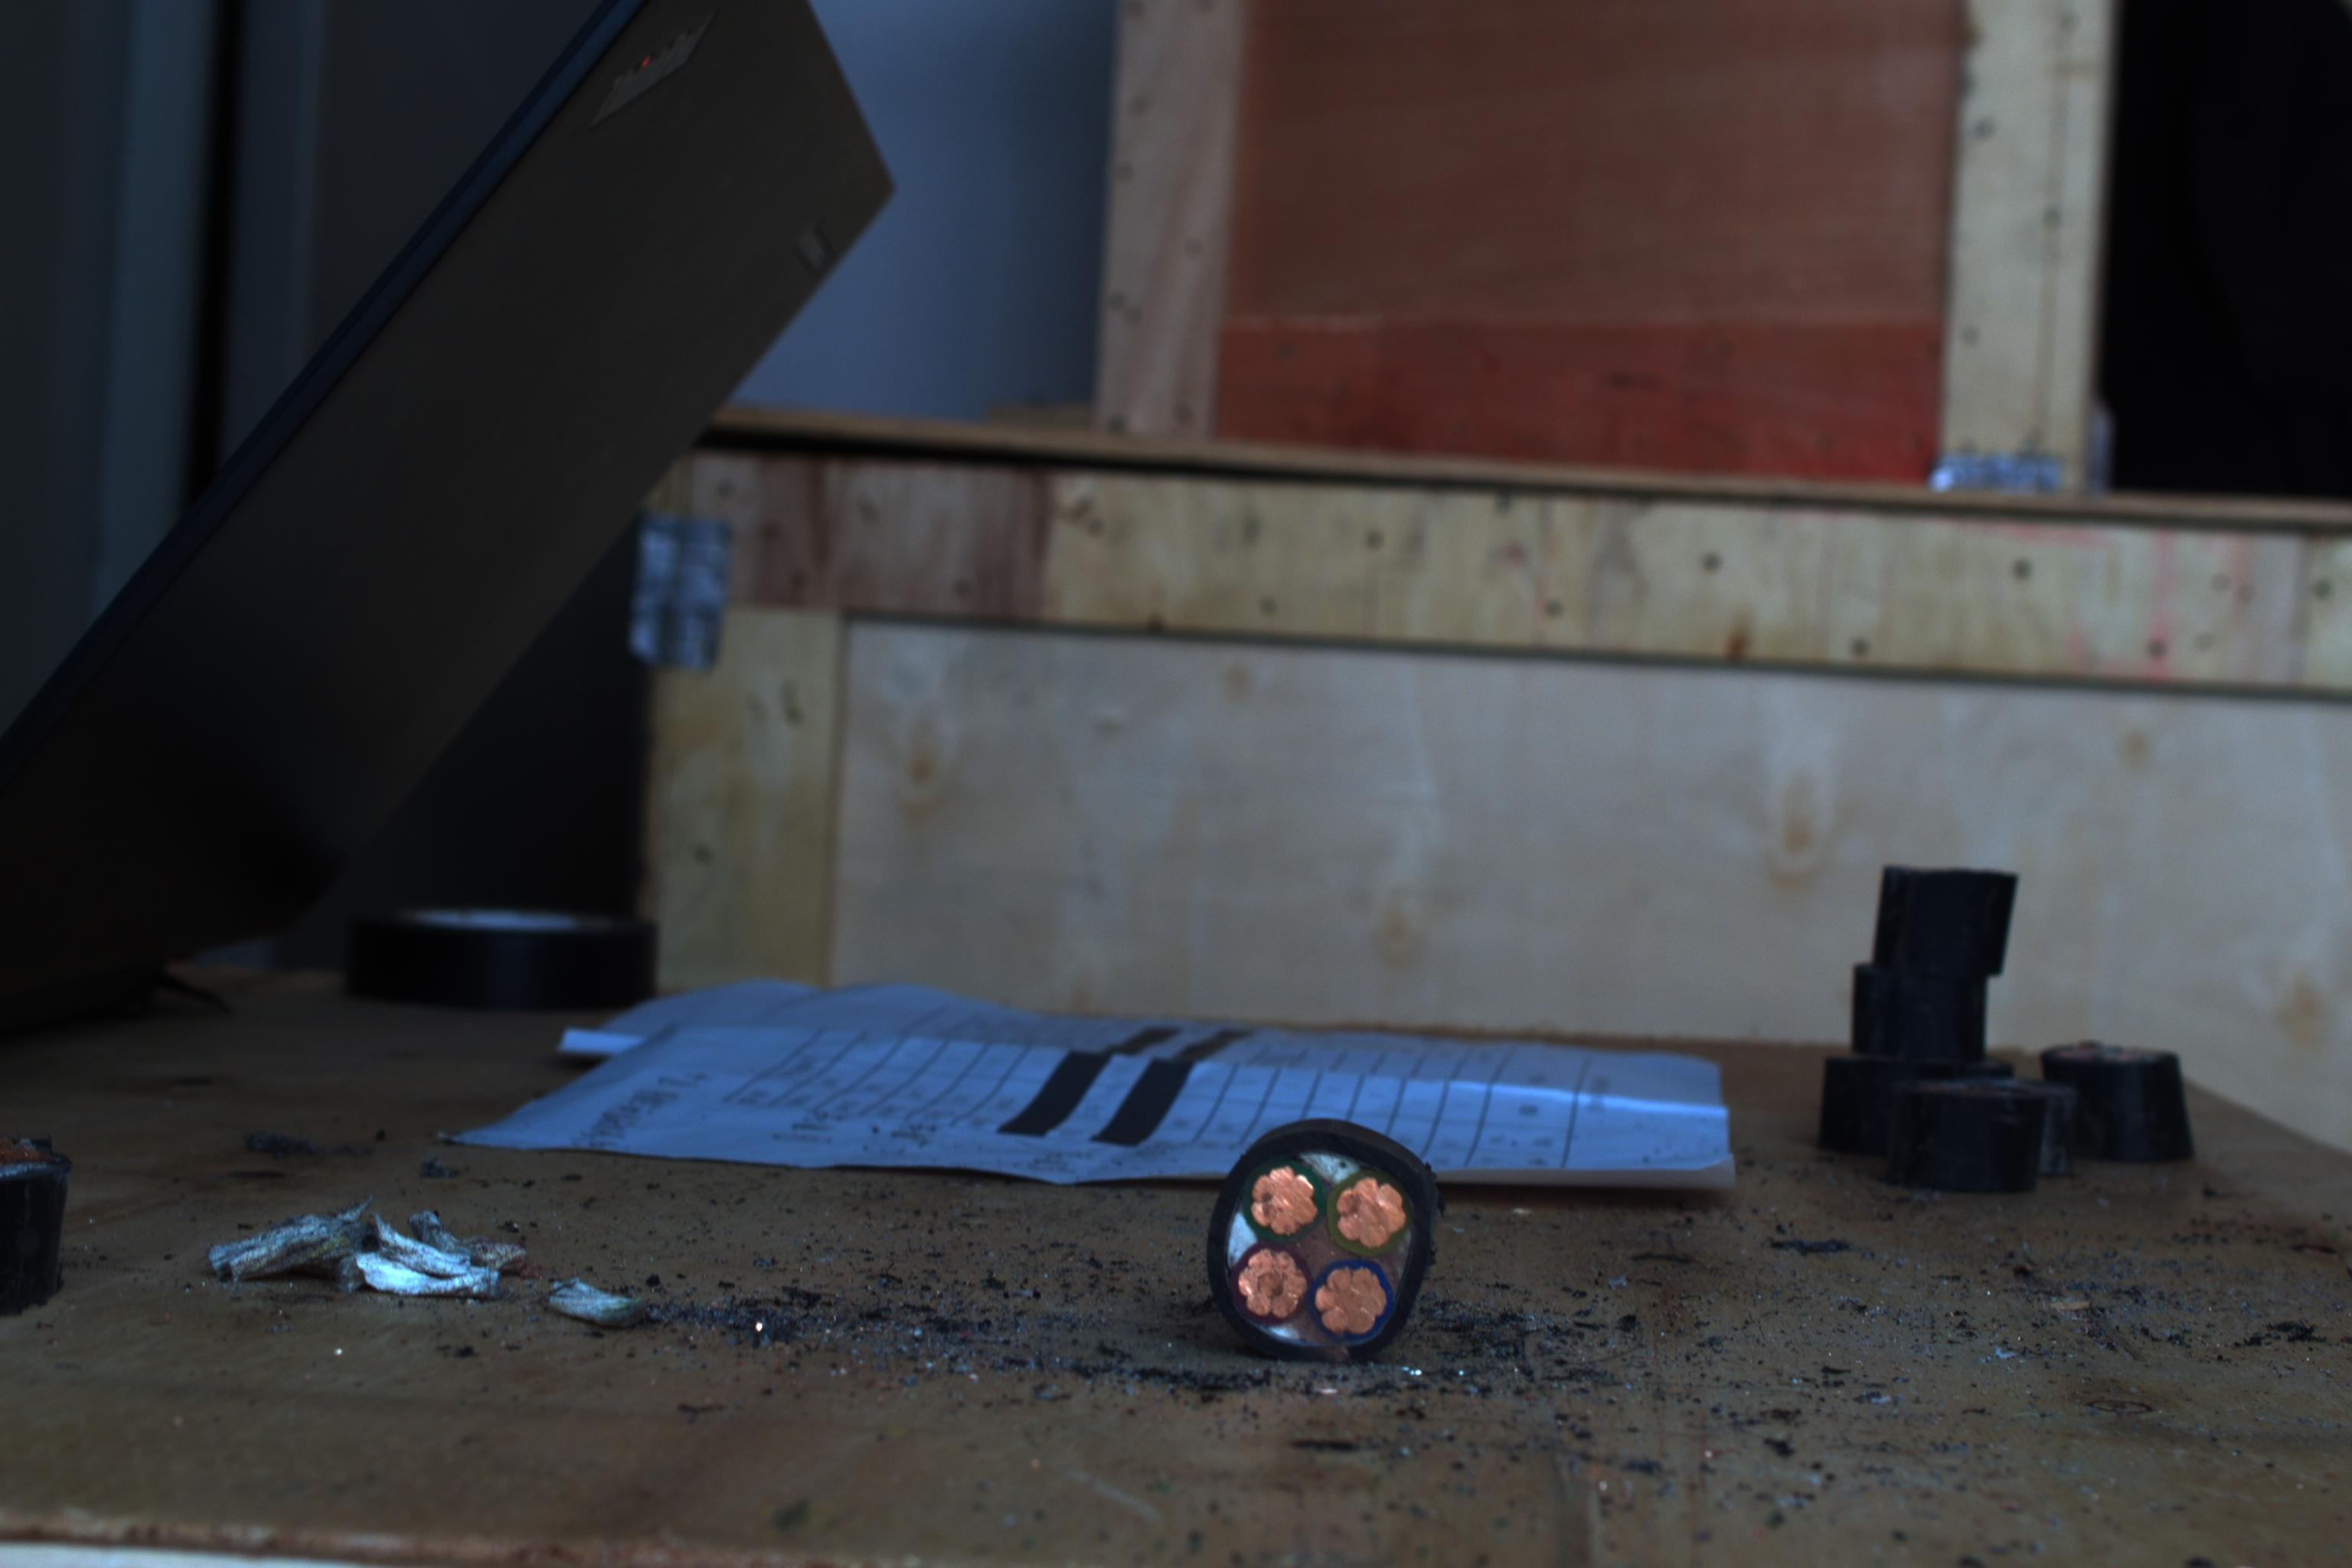YJV_0.6_1kV_4x35: (1209, 1115, 1458, 1386)
